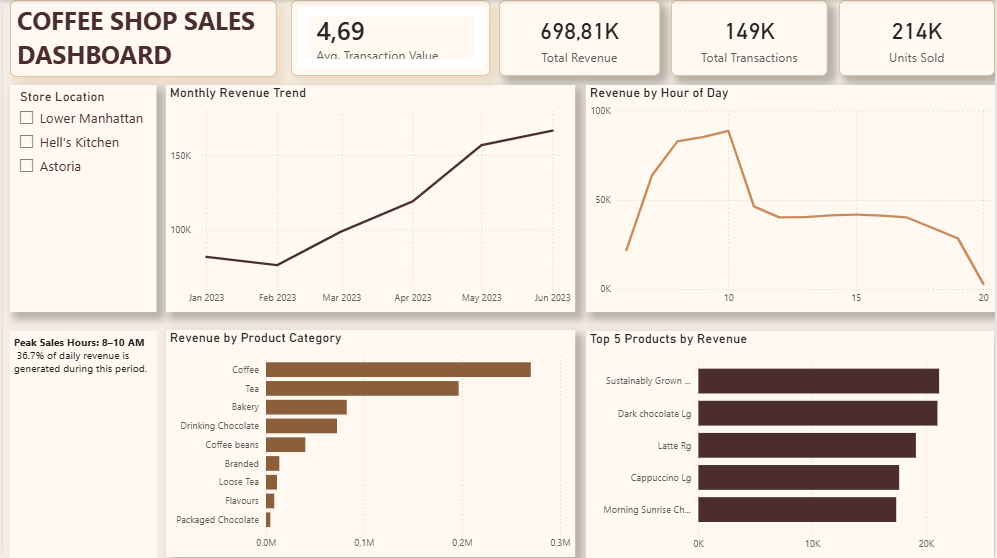

This screenshot's page, from the dashboard's own definition file:
{"tool":"powerbi","page":{"name":"Coffee Shop Sales Dashboard","canvas":[1280,720],"ordinal":0},"visuals":[{"type":"textbox","title":"COFFEE SHOP SALES DASHBOARD","box":[9.6,0,344.1,99.1],"z":0},{"type":"card","fields":{"Values":["Transactions.Total Sales"]},"box":[640,0,207.8,97.7],"z":1000},{"type":"card","fields":{"Values":["Transactions.Total Transactions"]},"box":[861.6,0,202.3,97.7],"z":2000},{"type":"card","fields":{"Values":["Transactions.Total Quantity"]},"box":[1079.1,0,200.9,97.7],"z":3000},{"type":"slicer","fields":{"Values":["Transactions.store_location"]},"box":[9.6,110.1,188.6,293.2],"z":4000},{"type":"lineChart","title":"Monthly Revenue Trend","fields":{"Y":["Transactions.Total Sales"],"Category":["Transactions.transaction_date.Variation.Date Hierarchy.Year","Transactions.transaction_date.Variation.Date Hierarchy.Month"]},"box":[209.8,109.8,527.7,293.4],"z":5000},{"type":"clusteredBarChart","title":"Revenue by Product Category","fields":{"Category":["Transactions.product_category"],"Y":["Transactions.Total Sales"]},"box":[209.8,426.1,527.7,293.4],"z":6000},{"type":"lineChart","title":"Revenue by Hour of Day","fields":{"Y":["Transactions.Total Sales"],"Category":["Transactions.Day of Time"]},"box":[752.3,109.8,527.7,293.4],"z":7000},{"type":"barChart","title":"Top 5 Products by Revenue","fields":{"Category":["Transactions.product_detail"],"Y":["Transactions.Total Sales"]},"box":[752.9,426.7,527.1,293.2],"z":8000},{"type":"cardVisual","fields":{"Data":["Transactions.Average Transaction Value"]},"box":[371.6,0,257.4,97.7],"z":9000},{"type":"textbox","box":[9.6,426.7,188.6,293.2],"z":10001}]}

Visuals, with their boxes in screenshot pixels (x1, y1, x2, y2), scaled from the page's 1280x720 canvas onto the 997x558 screenshot:
"COFFEE SHOP SALES DASHBOARD" textbox: locate(7, 0, 275, 77)
card - Transactions.Total Sales: locate(498, 0, 660, 76)
card - Transactions.Total Transactions: locate(671, 0, 829, 76)
card - Transactions.Total Quantity: locate(841, 0, 996, 76)
slicer - Transactions.store_location: locate(7, 85, 154, 313)
"Monthly Revenue Trend" lineChart: locate(163, 85, 574, 312)
"Revenue by Product Category" clusteredBarChart: locate(163, 330, 574, 557)
"Revenue by Hour of Day" lineChart: locate(586, 85, 996, 312)
"Top 5 Products by Revenue" barChart: locate(586, 331, 996, 557)
cardVisual - Transactions.Average Transaction Value: locate(289, 0, 490, 76)
textbox: locate(7, 331, 154, 557)
